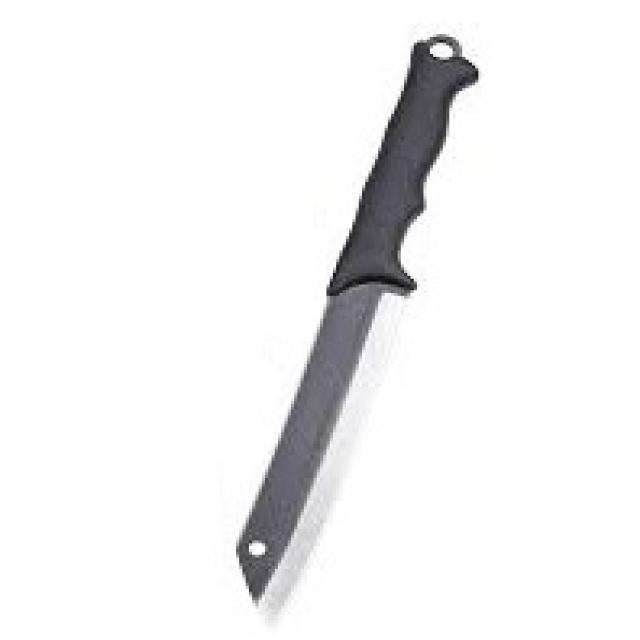knife: (230, 33, 481, 628)
